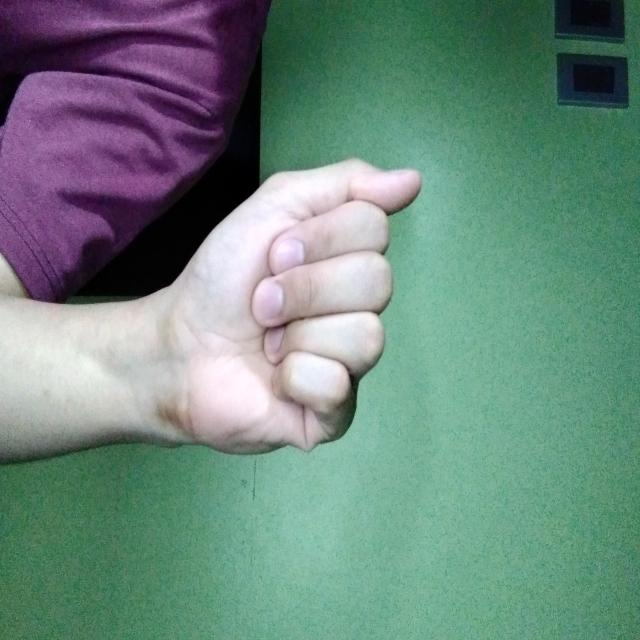A: (156, 216, 458, 472)
